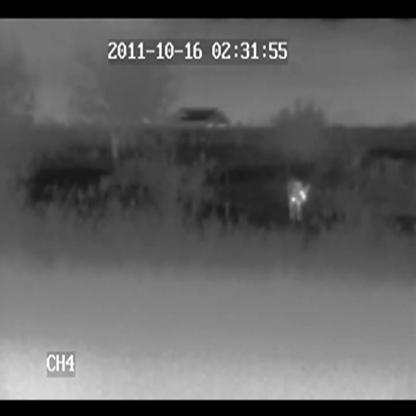rehkitze: (285, 176, 309, 223)
